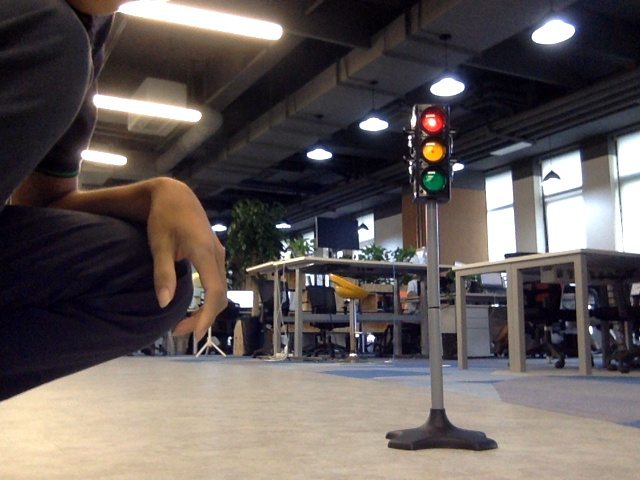red: (418, 108, 445, 193)
